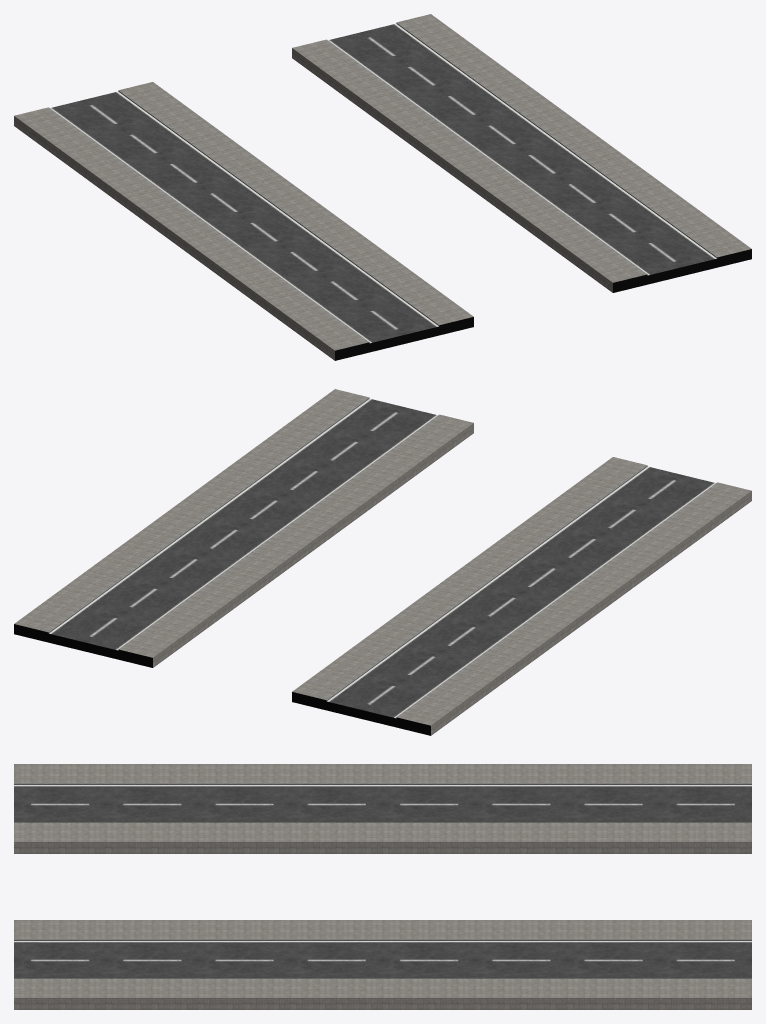
The model's file is doubleStraightLong_high.fbx.
The picture shows the model from 3 angles, top to bottom: view 1: azimuth 30°, elevation 25°; view 2: azimuth 150°, elevation 25°; view 3: azimuth 270°, elevation 25°; orthographic projection. The views are drawn at different scales.
Visible parts, largest first — view 1: materialC150, materialA150, materialB150, materialD150, materialE150; view 2: materialC150, materialA150, materialB150, materialD150, materialE150; view 3: materialC150, materialA150, materialD150, materialE150.
Part boxes in pixels (x1,y1,x2,y2): materialC150: (14,14,751,360); materialA150: (50,23,716,343); materialB150: (335,249,751,360); materialD150: (48,22,717,342); materialE150: (118,23,717,325); materialC150: (14,389,751,735); materialA150: (49,398,715,718); materialB150: (14,624,430,735); materialD150: (48,397,717,717); materialE150: (48,398,647,700); materialC150: (14,764,751,1009); materialA150: (14,785,751,978); materialD150: (14,783,751,979); materialE150: (14,783,751,940).
Bounding box in the file's own units: 76.8 × 1.8 × 102.
